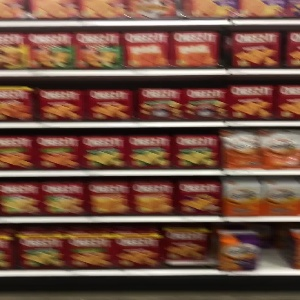void: (257, 222, 292, 272)
